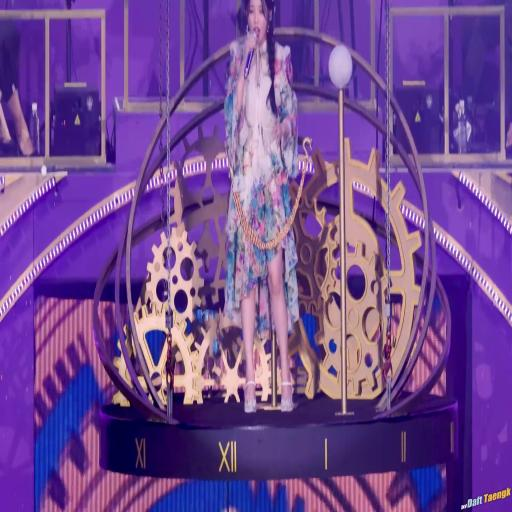IU: (244, 0, 274, 46)
